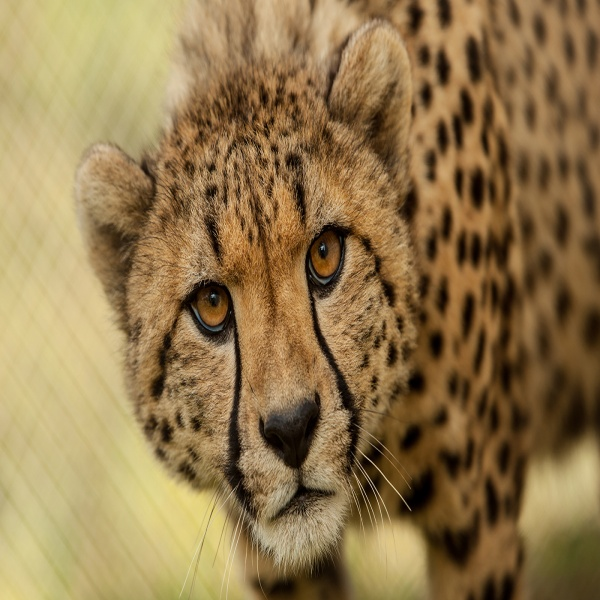Cheetah: (73, 3, 599, 599)
